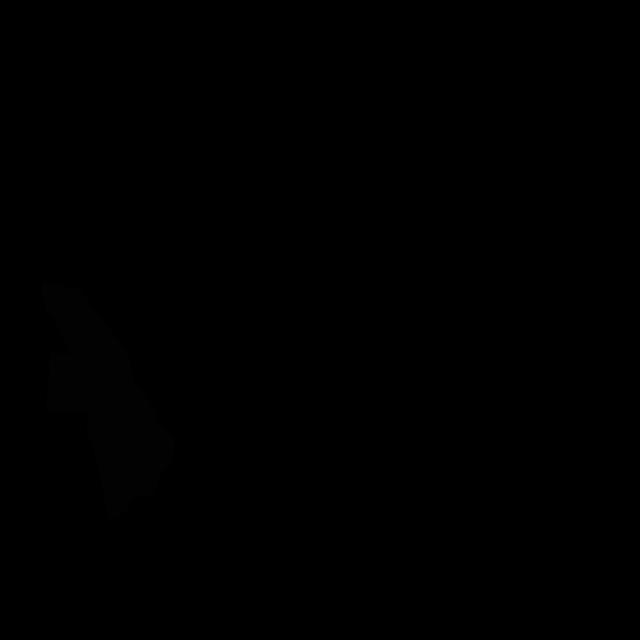cardboard: (41, 282, 175, 521)
